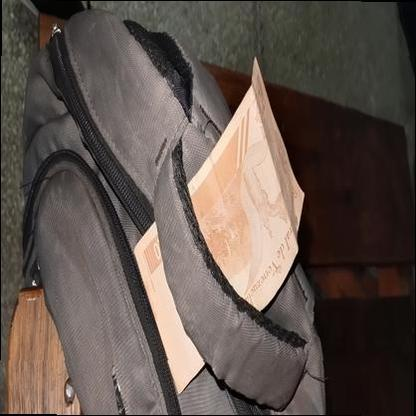twenty-back-vef: (134, 54, 307, 395)
